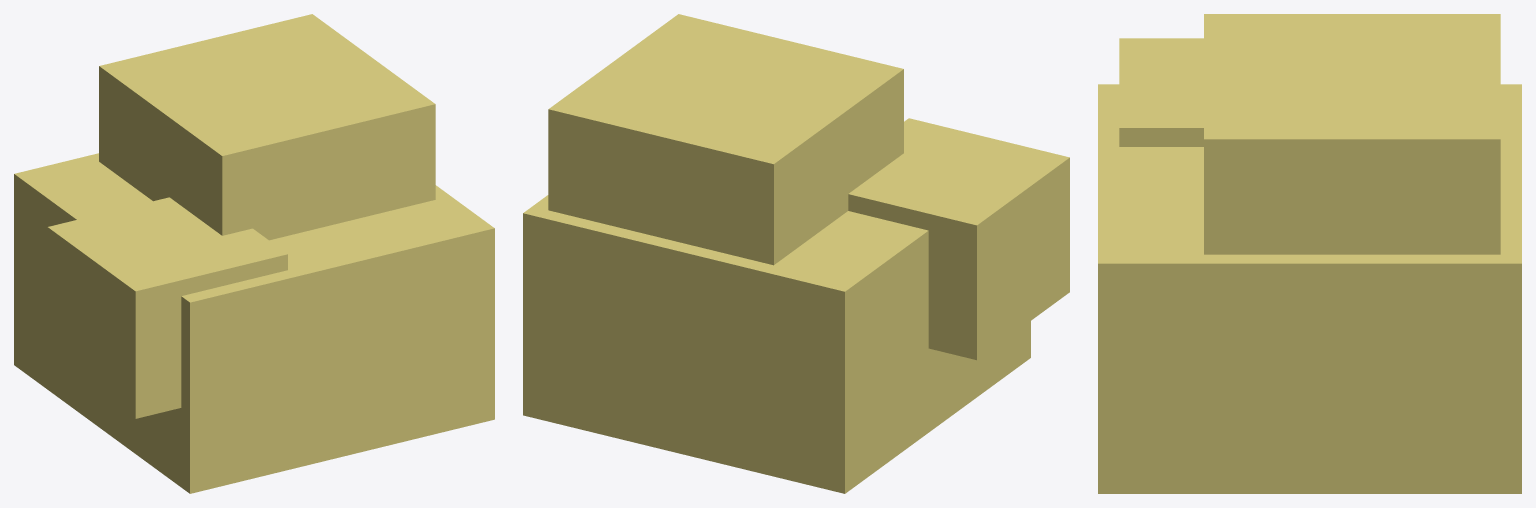
File: propvar_bush_yellow.glb
3 views of the same model, side by side, from view 1: azimuth 30°, elevation 25°; view 2: azimuth 150°, elevation 25°; view 3: azimuth 270°, elevation 25° (orthographic). The views are drawn at different scales.
Visible parts, largest first — view 1: PropVar_Bush_Yellow; view 2: PropVar_Bush_Yellow; view 3: PropVar_Bush_Yellow.
Boxes of the visible parts, x1,y1,x2,y2 form: PropVar_Bush_Yellow: (14, 14, 494, 493); PropVar_Bush_Yellow: (523, 14, 1069, 493); PropVar_Bush_Yellow: (1098, 14, 1521, 493).
Bounding box in the file's own units: 1.15 × 0.9 × 1.
